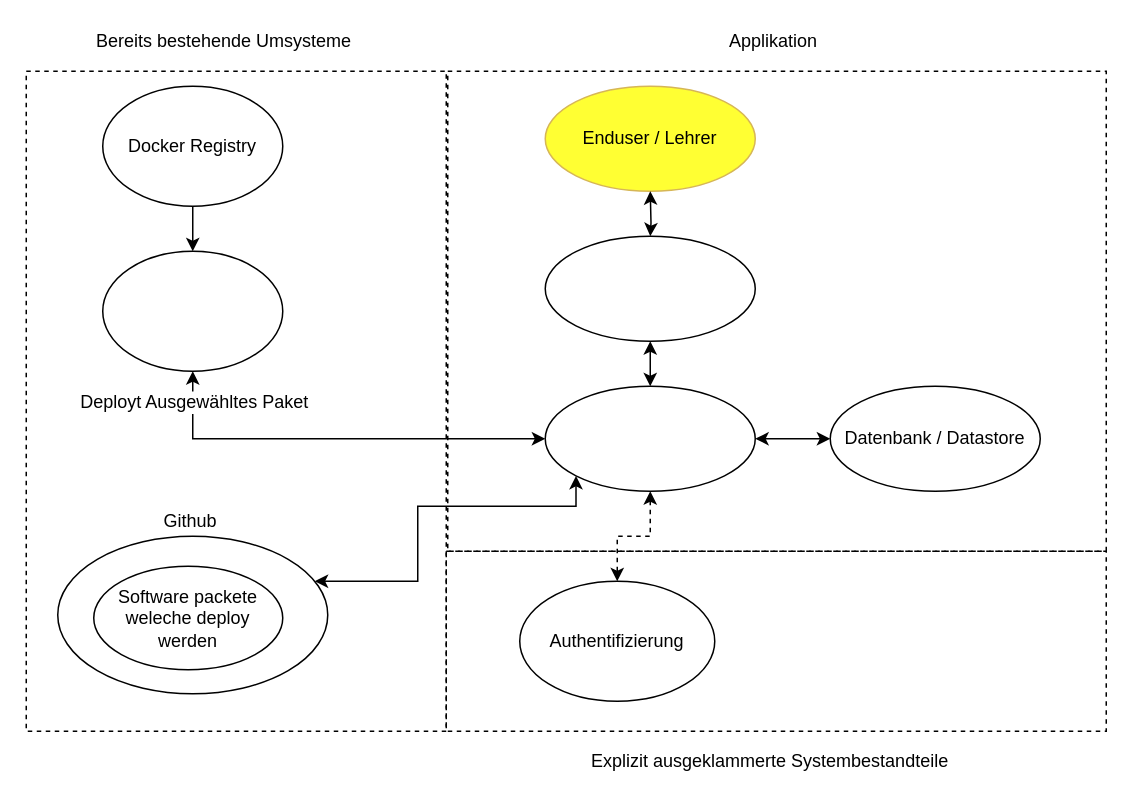
Some shapes in this 1133 by 801 pixel diagram are drawn without their labels. The box of each missing label's shape, as (x1, y1, x2, y2) in pixels:
Backend: (544, 385, 755, 491)
Frontend: (544, 235, 755, 341)
Kubernetes Cluster: (101, 250, 283, 371)
